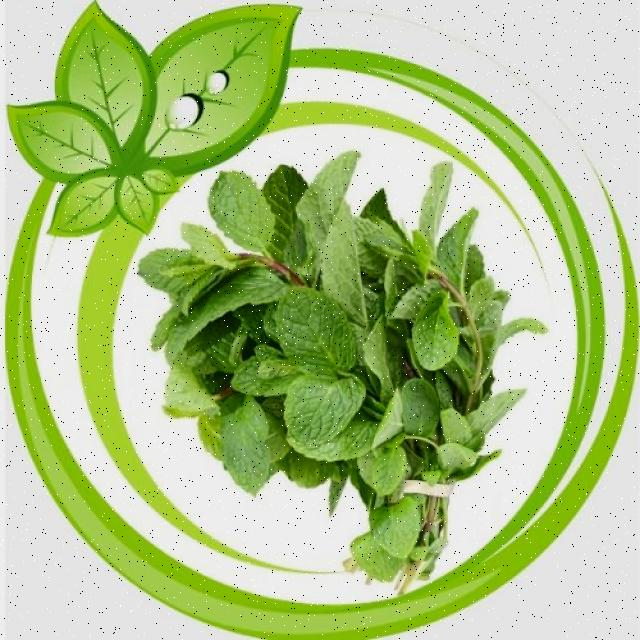Green Mint: (218, 208, 485, 516)
